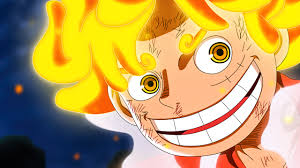Luffy: (107, 3, 289, 156)
